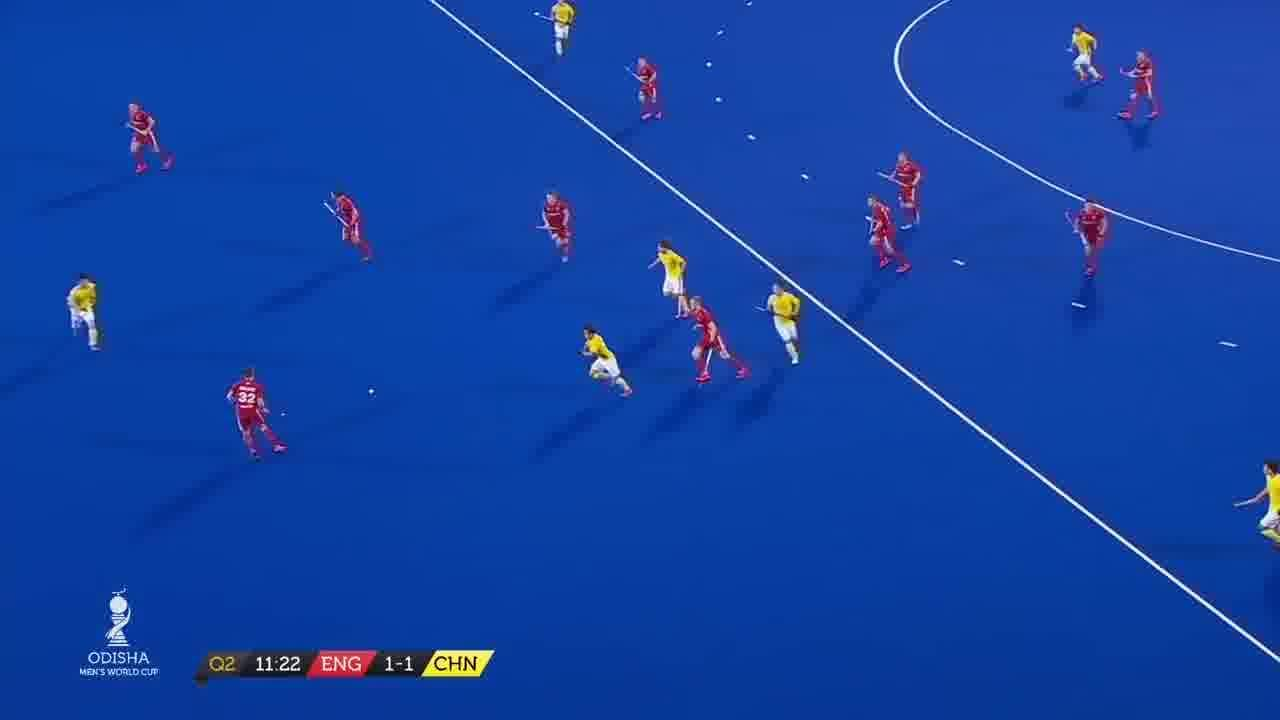ball: (361, 378, 384, 399)
